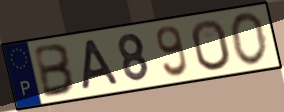8: (117, 32, 152, 83)
9: (155, 24, 190, 79)
A: (80, 37, 122, 92)
B: (33, 42, 78, 101)
O: (189, 18, 234, 73), (228, 10, 270, 67)
